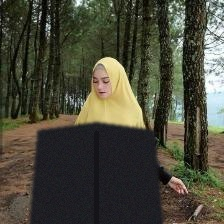Cadar_Niqab: (30, 55, 162, 224)
